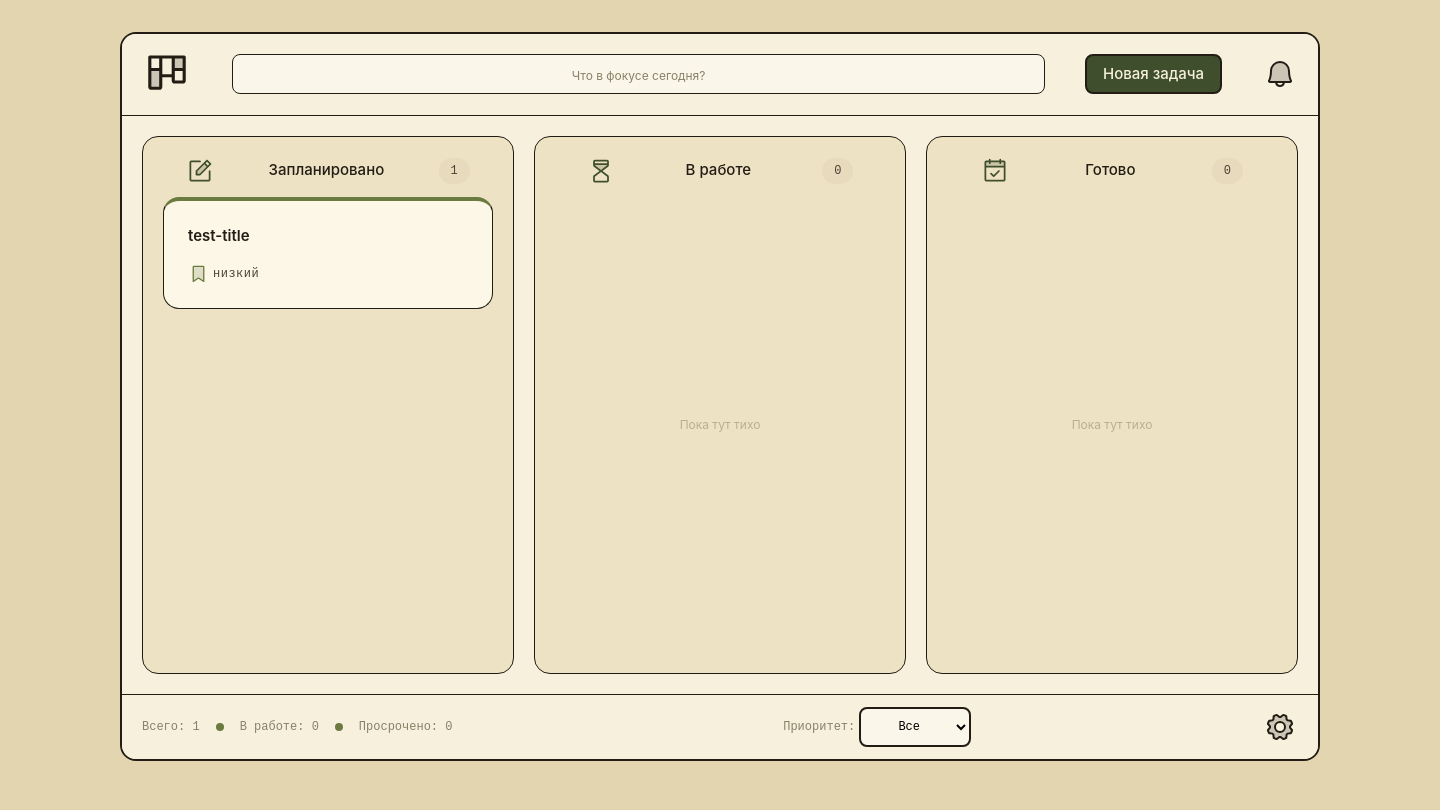
App › deletes task through App
Step 1. Click the text "test-title" → (219, 235), box x1=188 y1=226 x2=250 y2=244
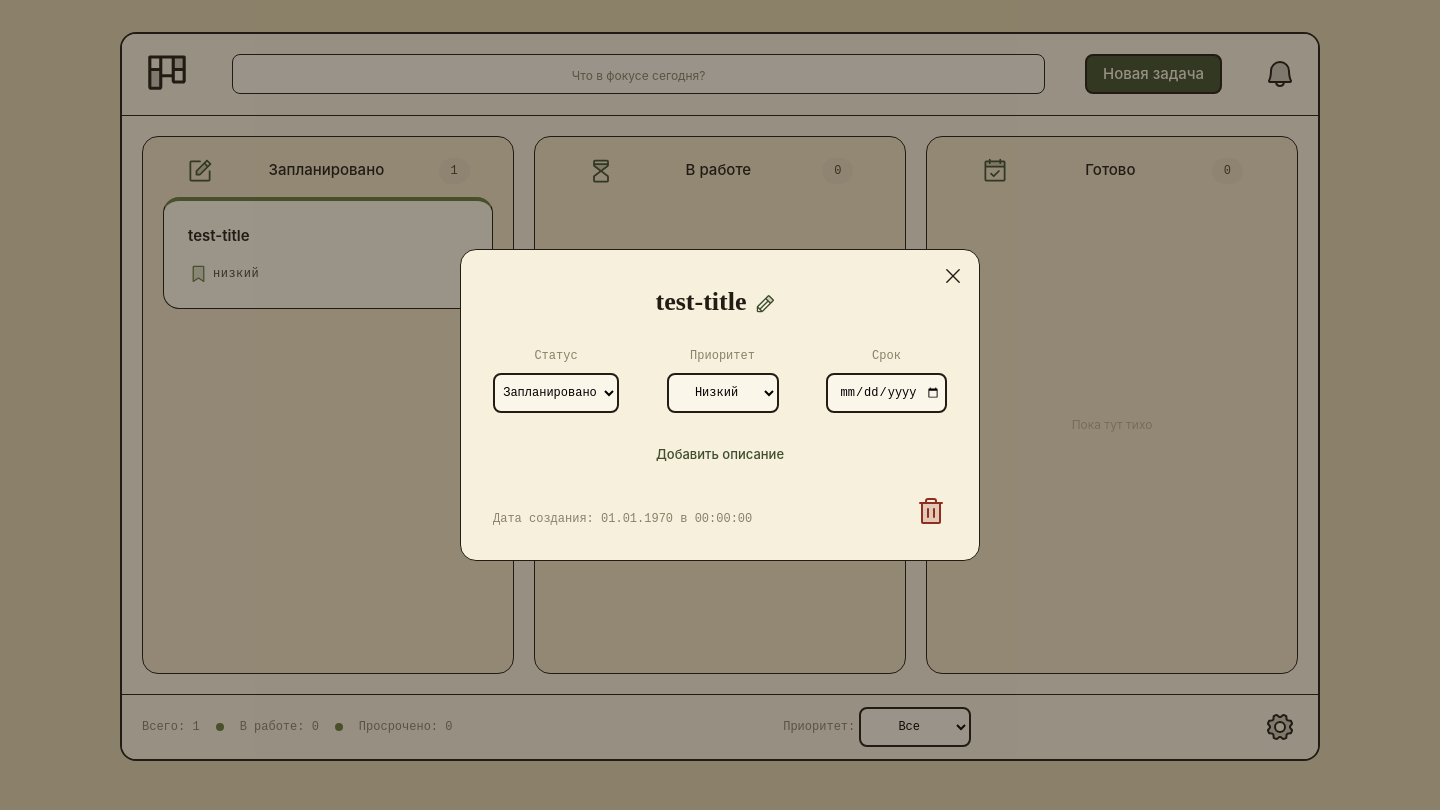
Step 2. Click the button named "Удалить задачу" → (931, 512), box x1=915 y1=496 x2=947 y2=528
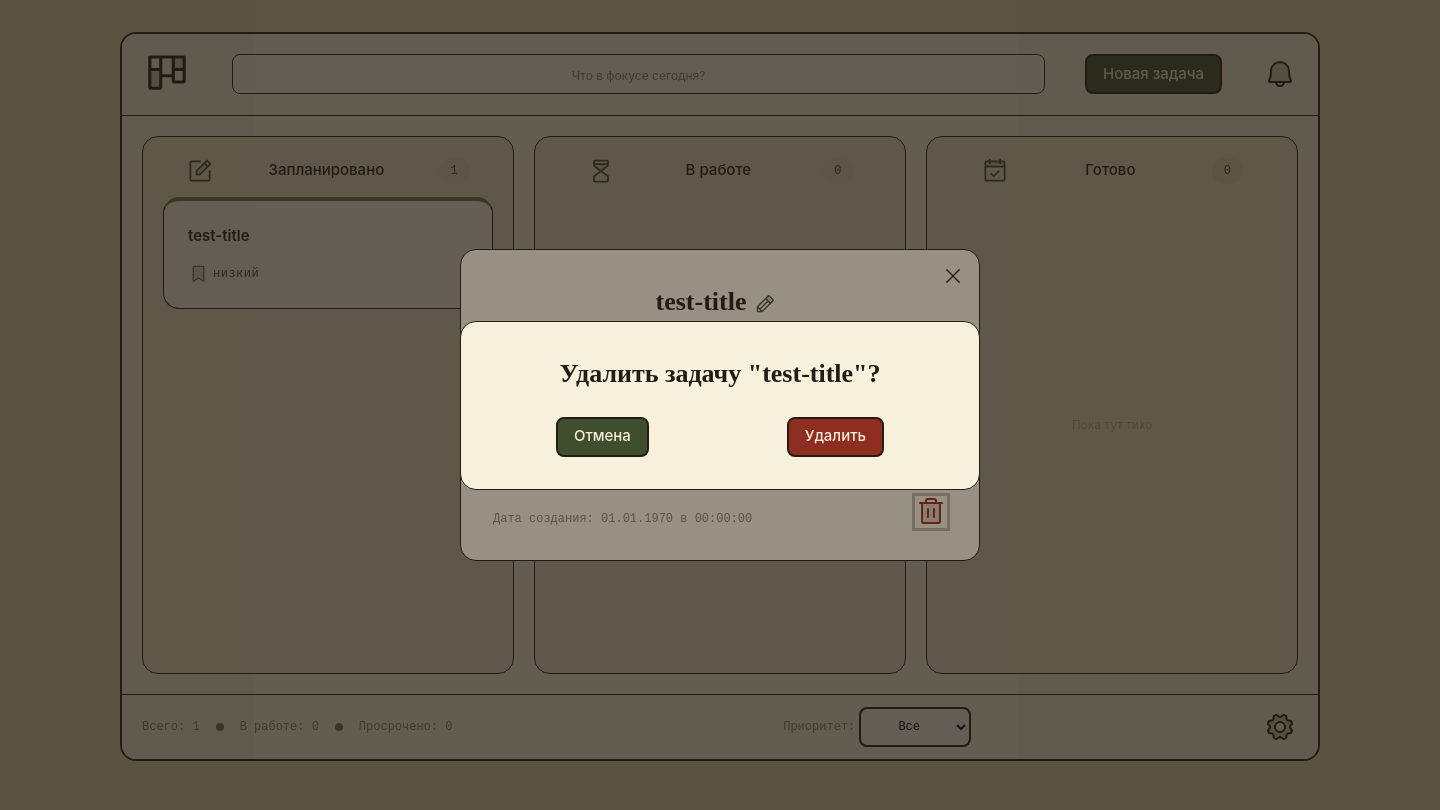
Now the heading "Удалить задачу \"test-title\"?" is shown, box x1=560 y1=358 x2=881 y2=388
Step 3. Click the button "Удалить" → (835, 436), box x1=787 y1=416 x2=884 y2=456
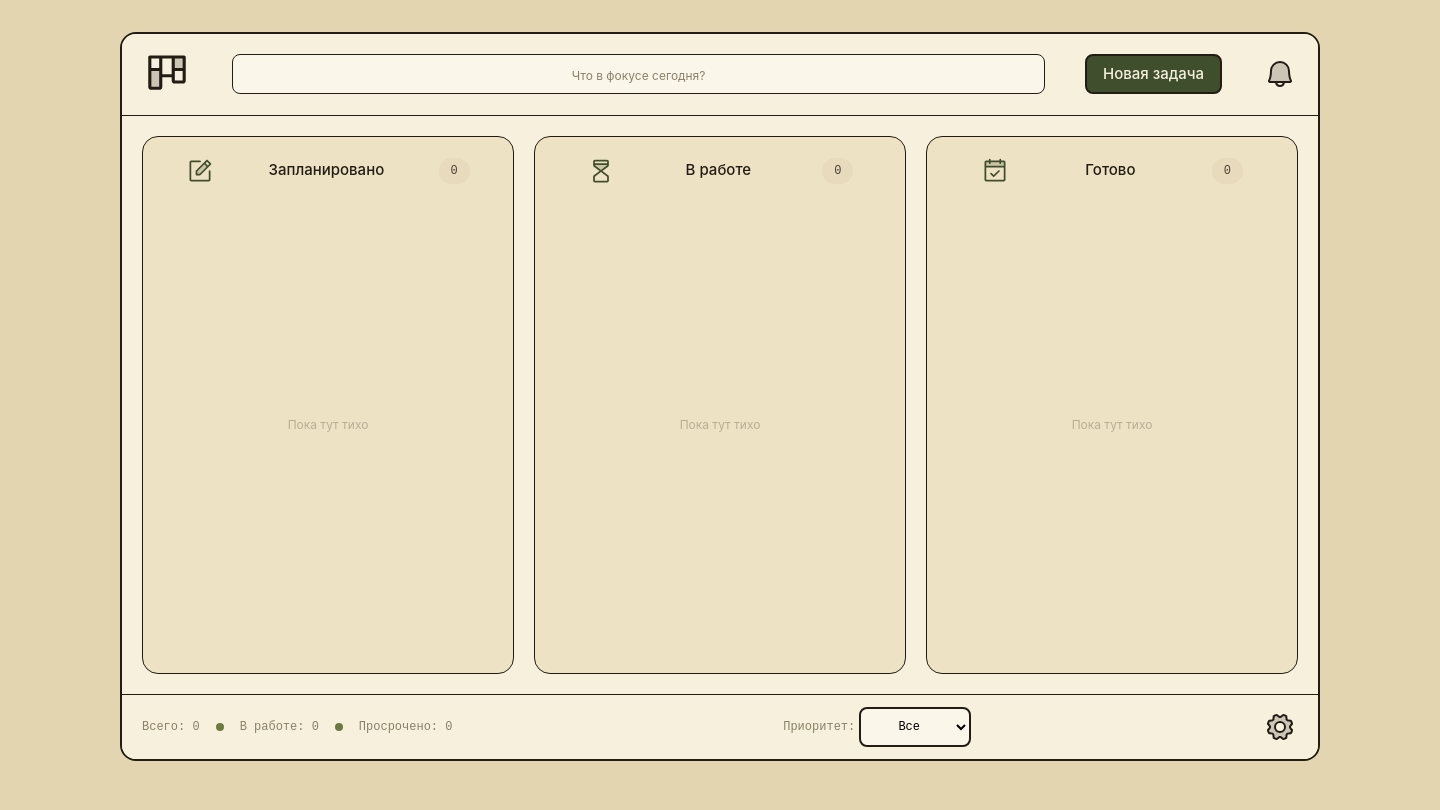
Now the heading "Удалить задачу \"test-title\"?" is gone
Now the button "Добавить описание" is gone
Now the heading "test-title" is gone
